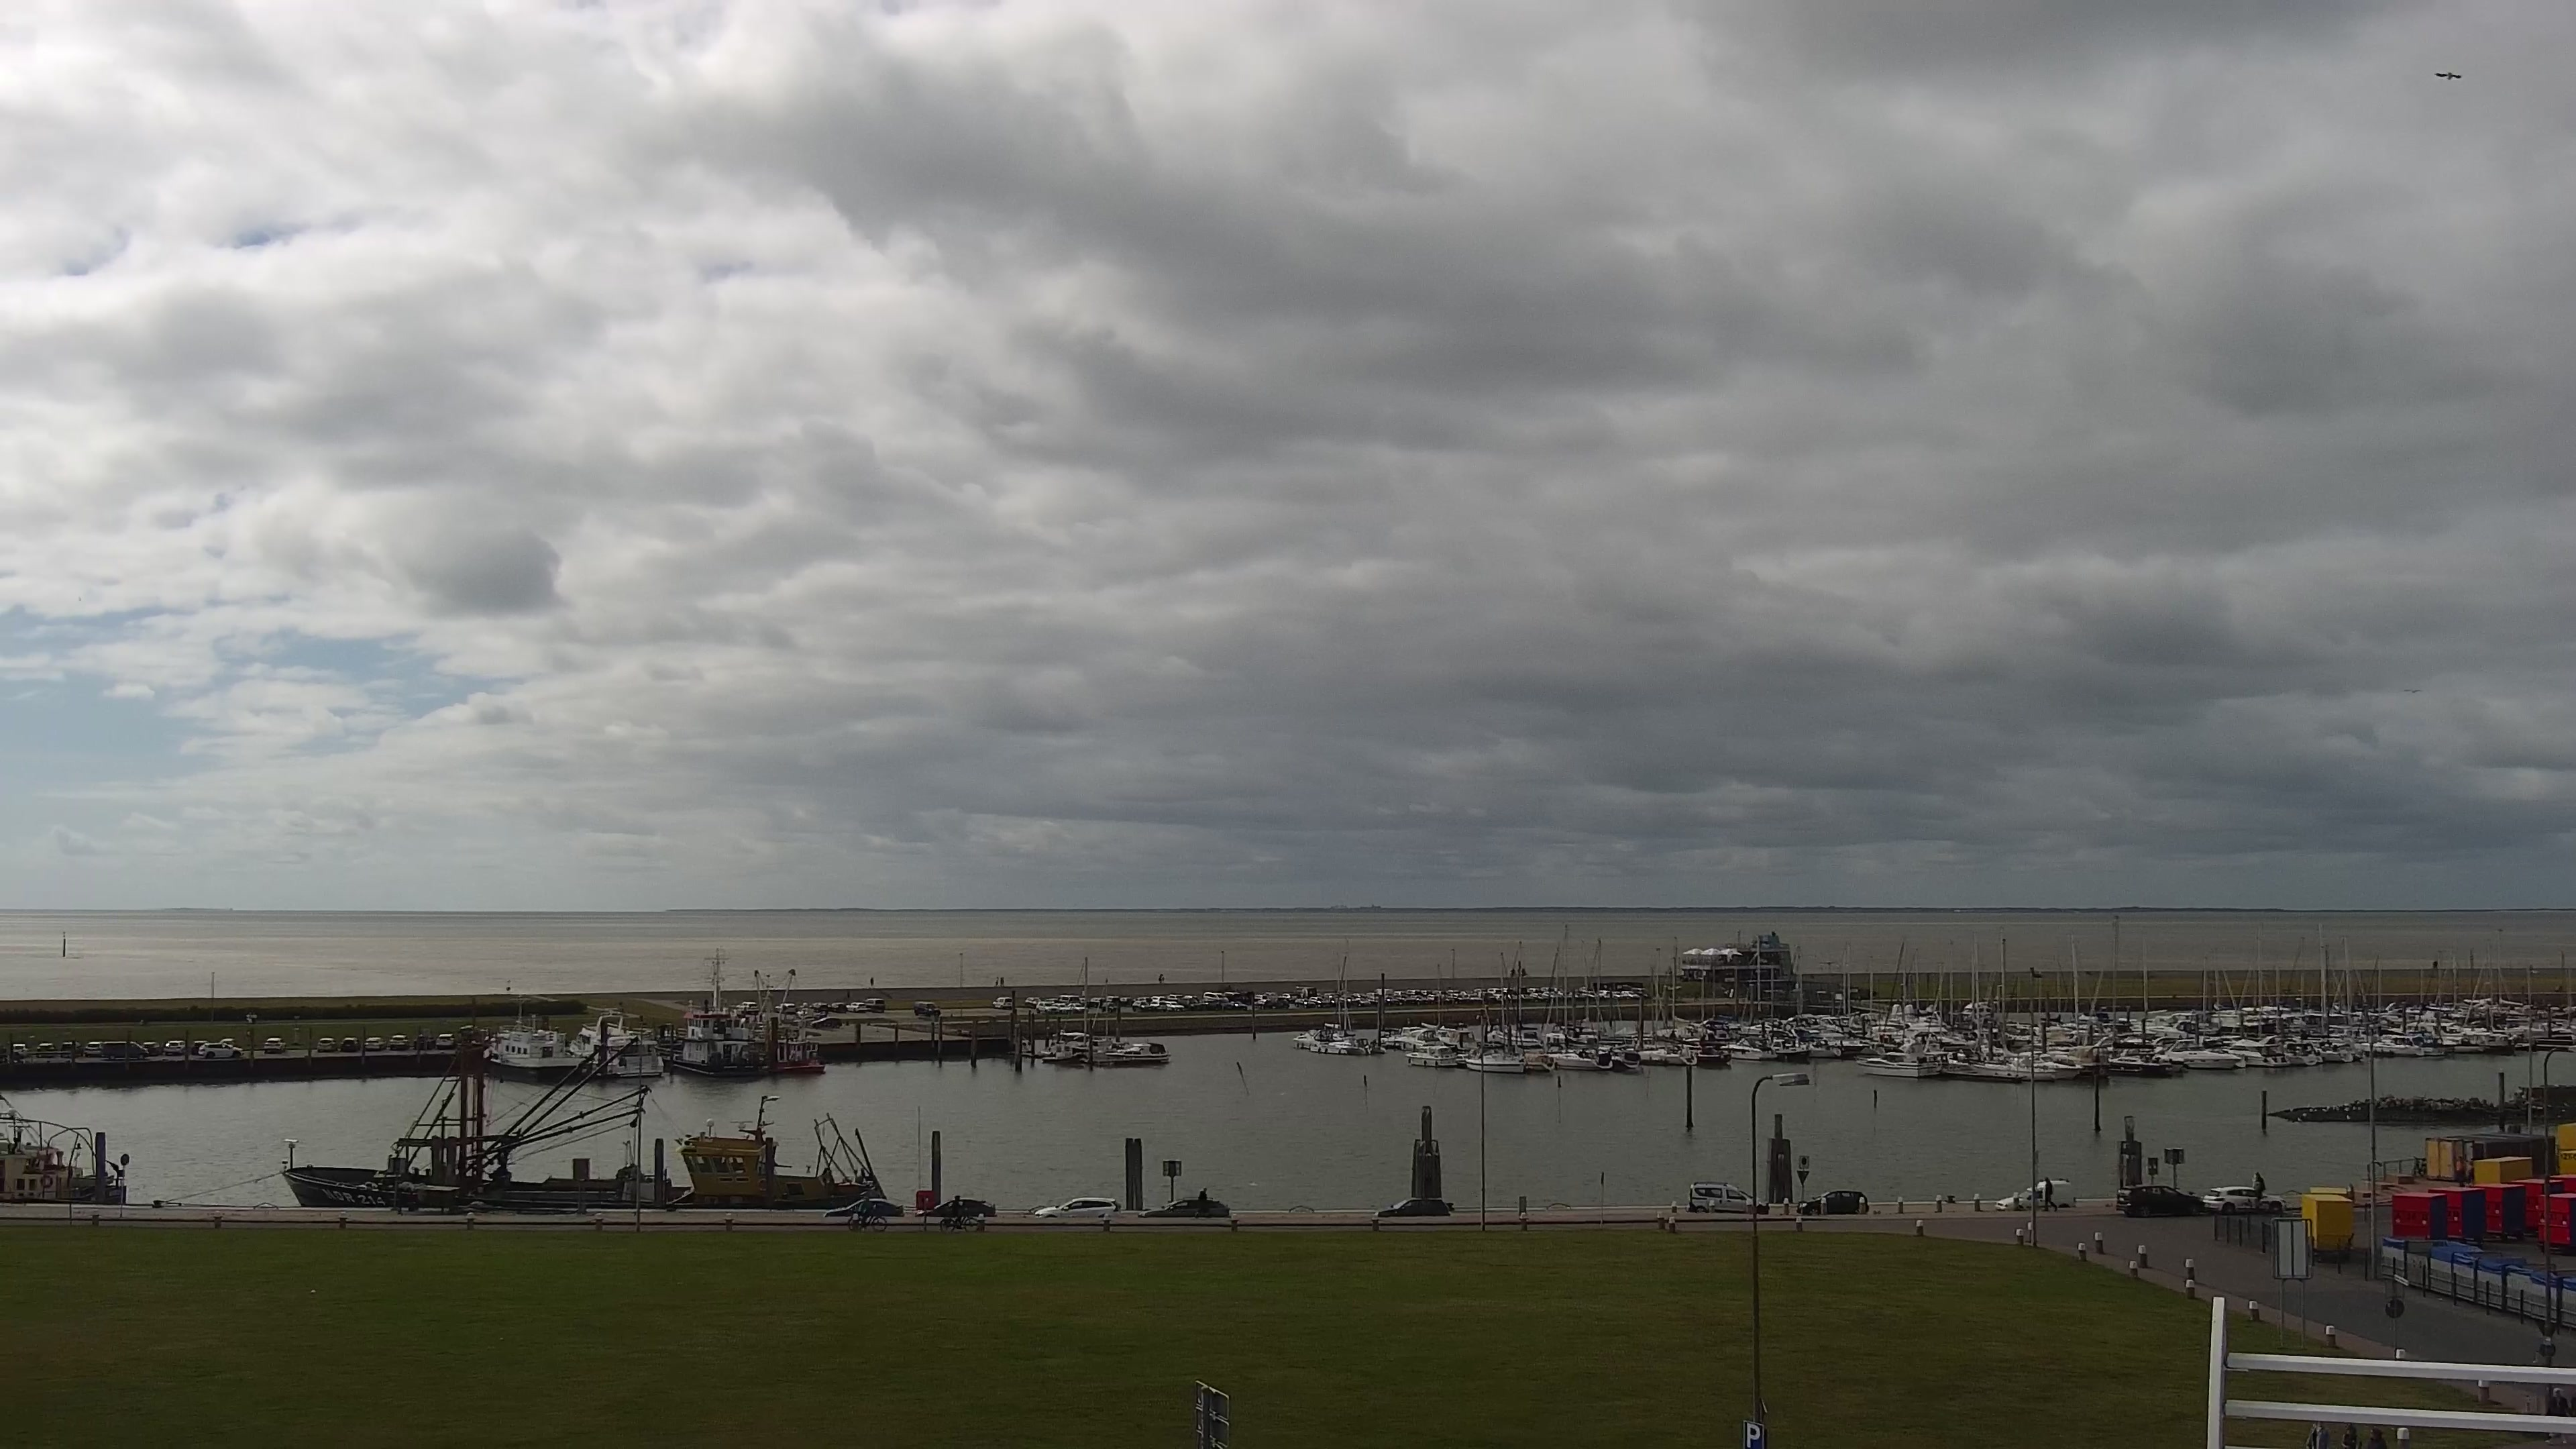human: (2545, 1387, 2569, 1444), (2535, 1336, 2557, 1386), (2304, 1420, 2328, 1449), (2341, 1421, 2363, 1448), (2252, 1171, 2266, 1211), (2043, 1177, 2058, 1212), (2365, 1428, 2386, 1448), (859, 1196, 873, 1232), (1197, 1186, 1208, 1218), (951, 1193, 961, 1229), (2454, 1155, 2465, 1186), (2467, 1160, 2475, 1187), (869, 976, 874, 988), (1159, 973, 1165, 985), (995, 976, 999, 987), (1000, 976, 1004, 987)
land: (2115, 1181, 2204, 1218), (1686, 1181, 1769, 1214), (1994, 1178, 2076, 1211), (2202, 1185, 2287, 1215), (1034, 1195, 1121, 1217), (1137, 1197, 1230, 1218), (1796, 1189, 1869, 1215), (824, 1197, 904, 1217), (1373, 1197, 1450, 1217), (914, 1198, 995, 1218), (847, 1207, 888, 1232), (938, 1208, 977, 1233), (103, 1041, 149, 1060), (197, 1042, 244, 1058), (1050, 1002, 1088, 1014), (914, 1001, 941, 1017), (59, 1040, 84, 1059), (809, 1016, 842, 1028), (263, 1037, 286, 1055), (85, 1041, 106, 1057), (36, 1042, 58, 1057), (413, 1034, 436, 1050), (1294, 986, 1318, 999), (164, 1040, 186, 1056), (339, 1037, 360, 1053), (436, 1033, 457, 1049), (863, 998, 885, 1013), (1203, 991, 1229, 1003), (140, 1042, 162, 1056), (1034, 1000, 1058, 1014), (389, 1034, 409, 1051), (735, 1001, 759, 1014), (364, 1036, 386, 1051), (992, 997, 1014, 1010), (773, 1002, 796, 1014), (1307, 996, 1330, 1008), (192, 1040, 211, 1055), (317, 1038, 337, 1053), (808, 1002, 829, 1013), (11, 1043, 29, 1057), (1276, 991, 1299, 1002), (1294, 998, 1316, 1008), (828, 1002, 847, 1013), (1270, 996, 1289, 1009), (846, 1001, 867, 1012), (1394, 995, 1415, 1005), (1132, 1002, 1152, 1012), (1165, 1001, 1184, 1012), (1253, 999, 1272, 1010), (1351, 998, 1371, 1008), (1462, 994, 1483, 1005), (1058, 994, 1081, 1003), (1024, 996, 1040, 1009), (1089, 997, 1105, 1009), (1101, 1002, 1117, 1013), (219, 1037, 237, 1047), (1412, 995, 1429, 1006), (1366, 991, 1380, 1004), (1529, 992, 1548, 1002), (1620, 990, 1640, 1000), (1224, 991, 1241, 1002), (1472, 987, 1487, 998), (1148, 1001, 1166, 1011), (1351, 991, 1368, 1000), (1119, 997, 1133, 1007), (1373, 988, 1393, 997), (1262, 990, 1278, 1000), (1384, 996, 1399, 1006), (1132, 996, 1152, 1003), (1405, 989, 1424, 996), (1426, 994, 1439, 1005), (1597, 989, 1611, 1000), (1610, 991, 1624, 1000), (1150, 996, 1166, 1003), (1165, 994, 1183, 1002), (1183, 994, 1197, 1002), (1252, 993, 1268, 1000), (1106, 996, 1120, 1004), (1487, 987, 1501, 994), (1527, 987, 1541, 994), (1447, 989, 1460, 997), (1067, 1002, 1073, 1012), (1393, 991, 1407, 997)
sea: (282, 1038, 886, 1210), (652, 945, 770, 1073), (1, 1095, 128, 1203), (1544, 925, 1612, 1069), (1621, 946, 1697, 1064), (483, 993, 592, 1073), (753, 967, 824, 1073), (568, 1008, 665, 1073), (1308, 934, 1355, 1052), (2150, 1038, 2240, 1069), (1970, 1055, 2057, 1082), (2004, 1049, 2084, 1079), (1853, 1051, 1941, 1077), (2220, 1038, 2290, 1067), (1037, 1028, 1112, 1053), (2053, 1044, 2108, 1077), (2359, 1035, 2443, 1056), (1464, 1045, 1525, 1073), (1104, 1041, 1170, 1063), (2107, 1053, 2173, 1075), (1719, 1034, 1776, 1059), (2452, 1031, 2514, 1053), (1495, 1024, 1544, 1049), (1403, 1044, 1455, 1067), (1393, 1028, 1442, 1051), (2279, 1040, 2322, 1065), (1433, 1026, 1478, 1050), (2312, 1039, 2353, 1063), (1327, 1036, 1386, 1053), (2147, 1018, 2203, 1036), (1769, 1036, 1809, 1057), (1040, 1043, 1087, 1061), (1695, 1044, 1731, 1064), (1825, 1038, 1868, 1054), (1808, 1037, 1843, 1056), (1607, 1050, 1640, 1068), (1699, 1018, 1730, 1038), (1291, 1028, 1319, 1049), (1523, 1052, 1554, 1070), (1735, 1020, 1779, 1034)
